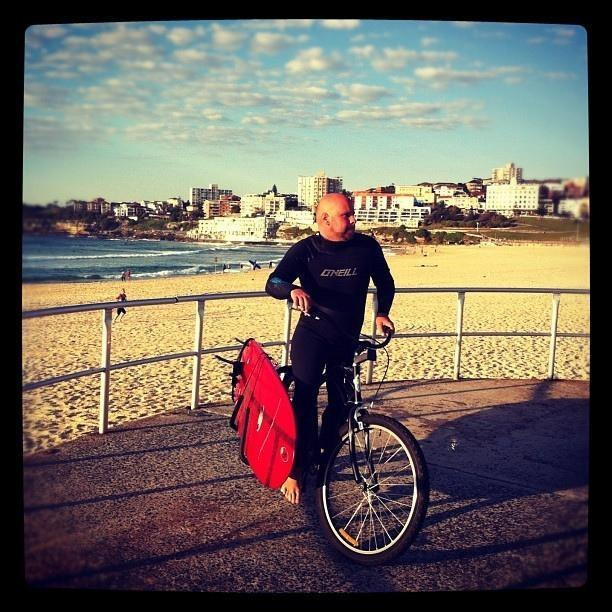bicycle: (315, 333, 422, 559)
